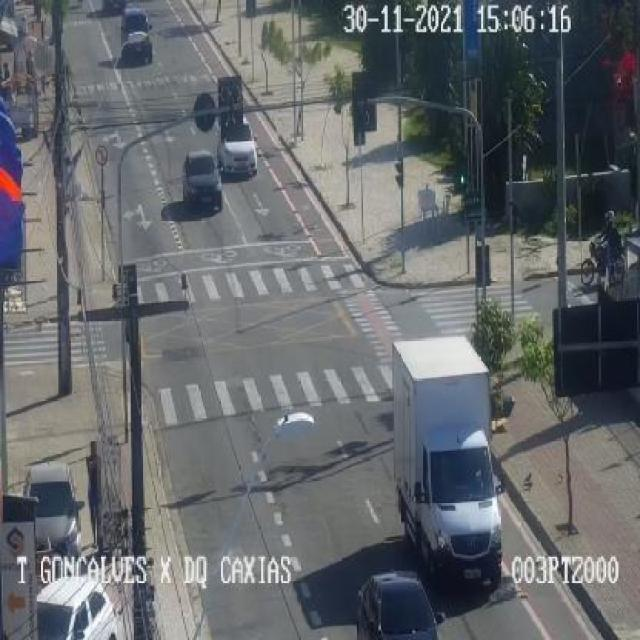Car: (348, 547, 441, 640), (13, 570, 117, 640), (18, 459, 82, 571), (181, 151, 220, 220), (219, 117, 256, 177), (119, 15, 152, 67)
Cycle: (573, 208, 634, 286)
Truck: (398, 334, 500, 584)
